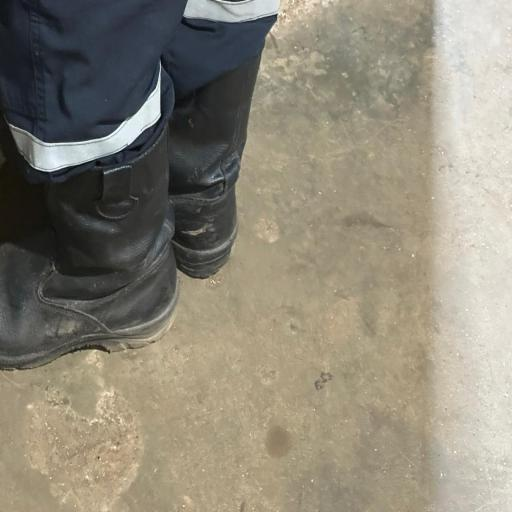safety_shoe: (0, 123, 186, 364), (168, 76, 262, 282)
